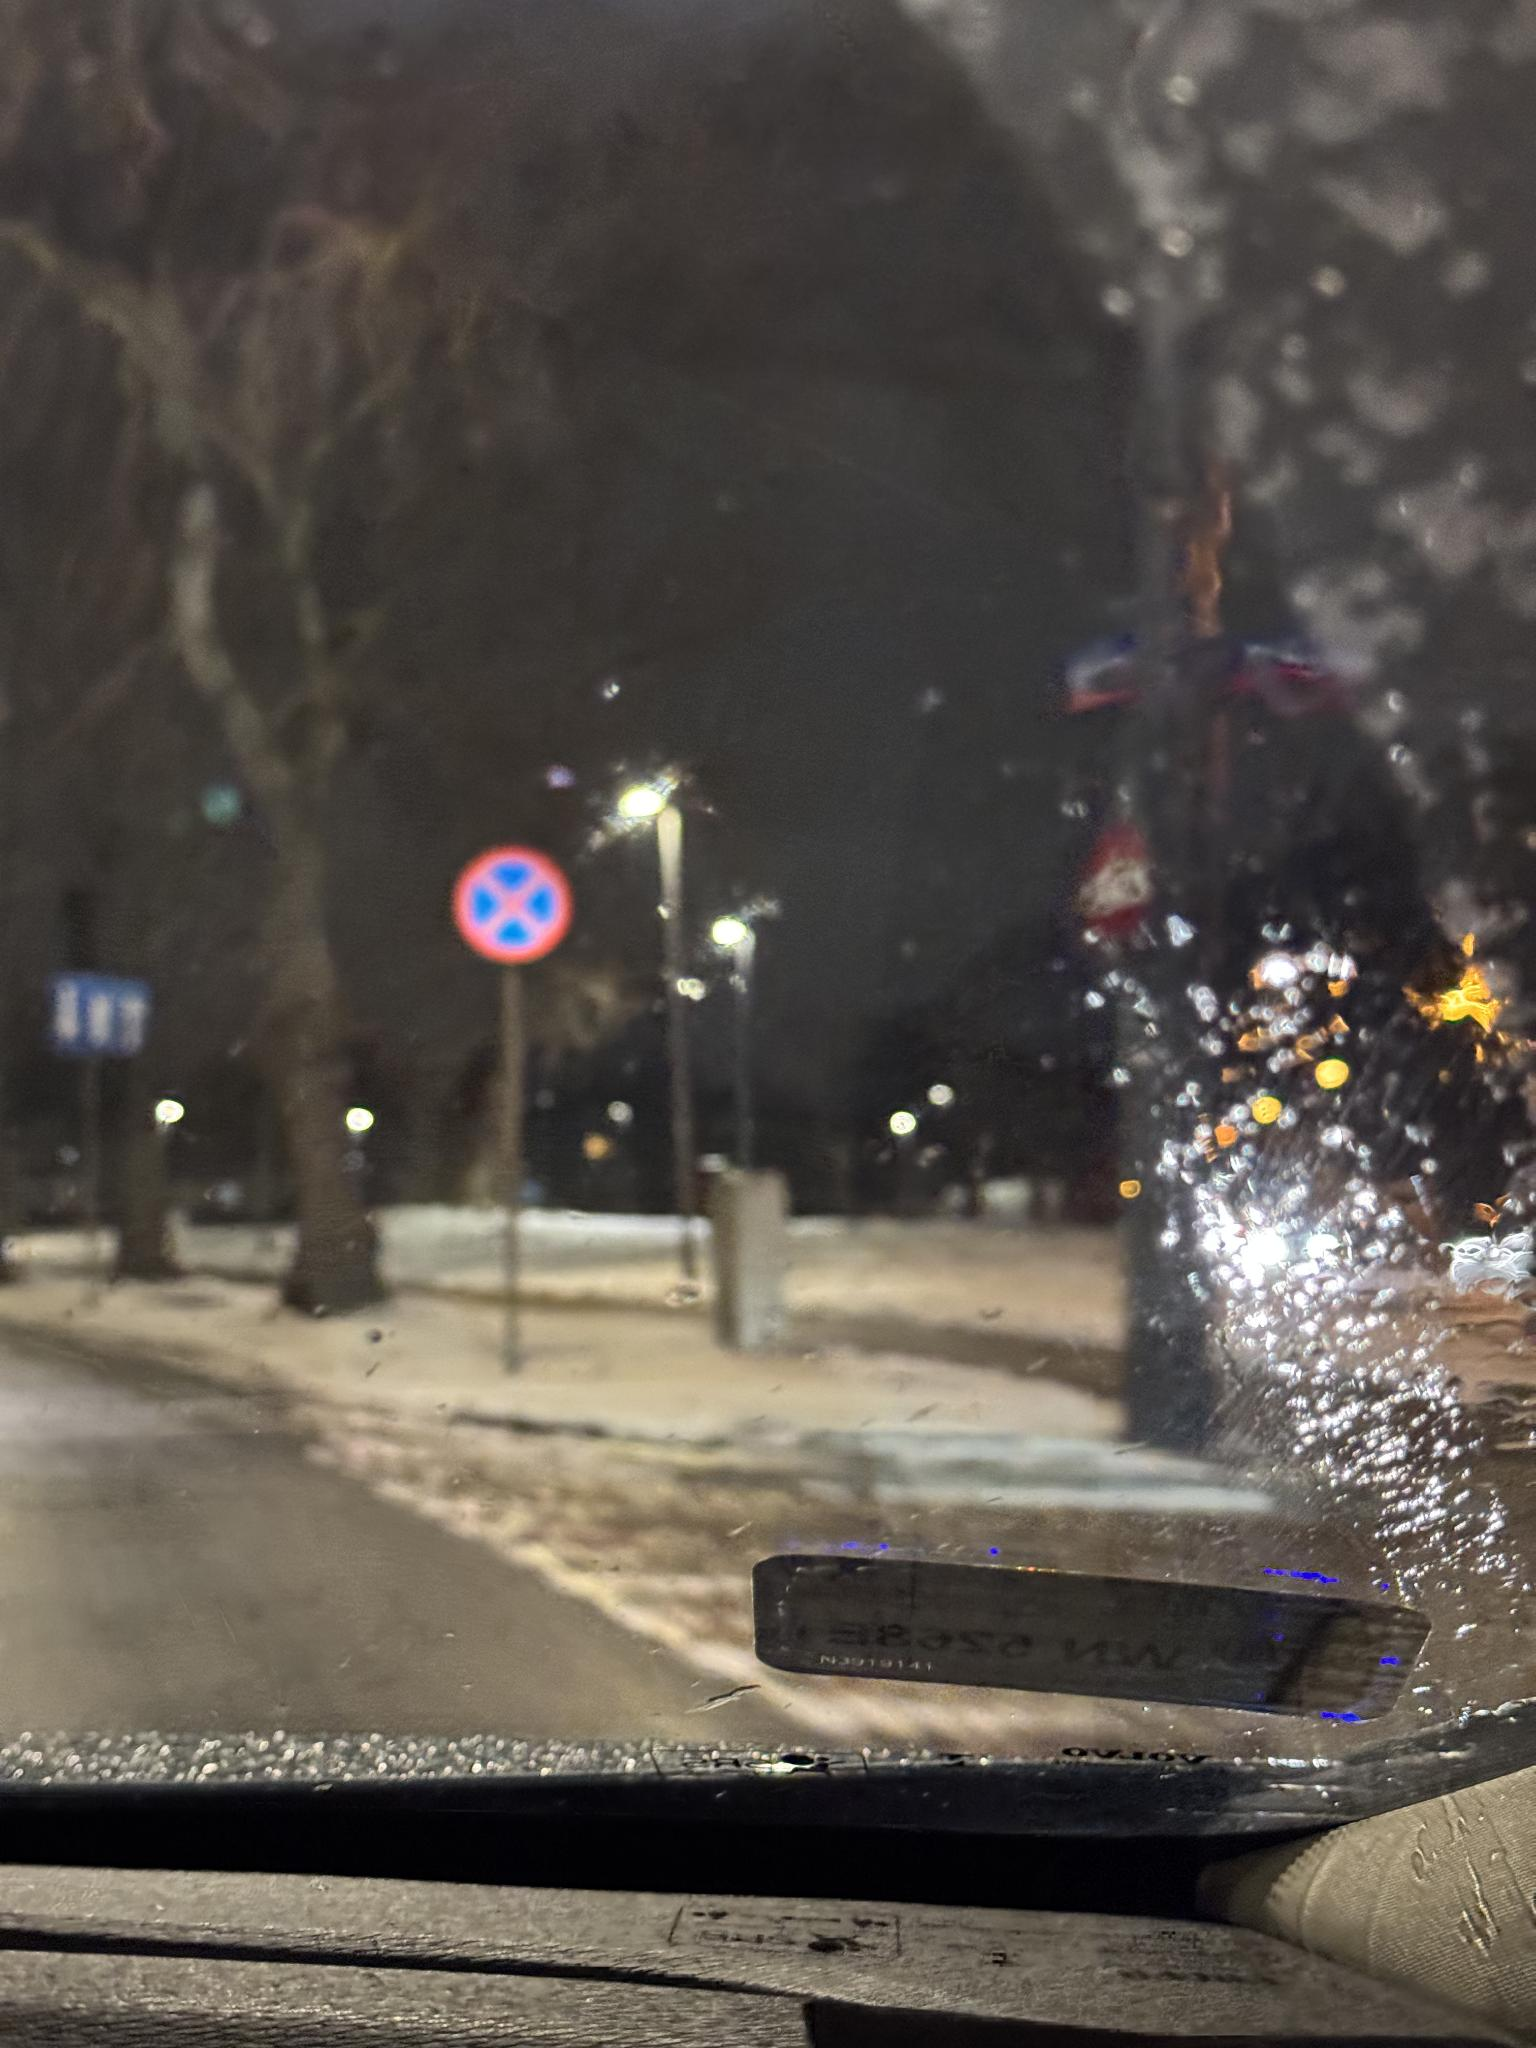other: (50, 972, 153, 1053)
prohibitory: (452, 847, 573, 968), (1079, 826, 1160, 958)
